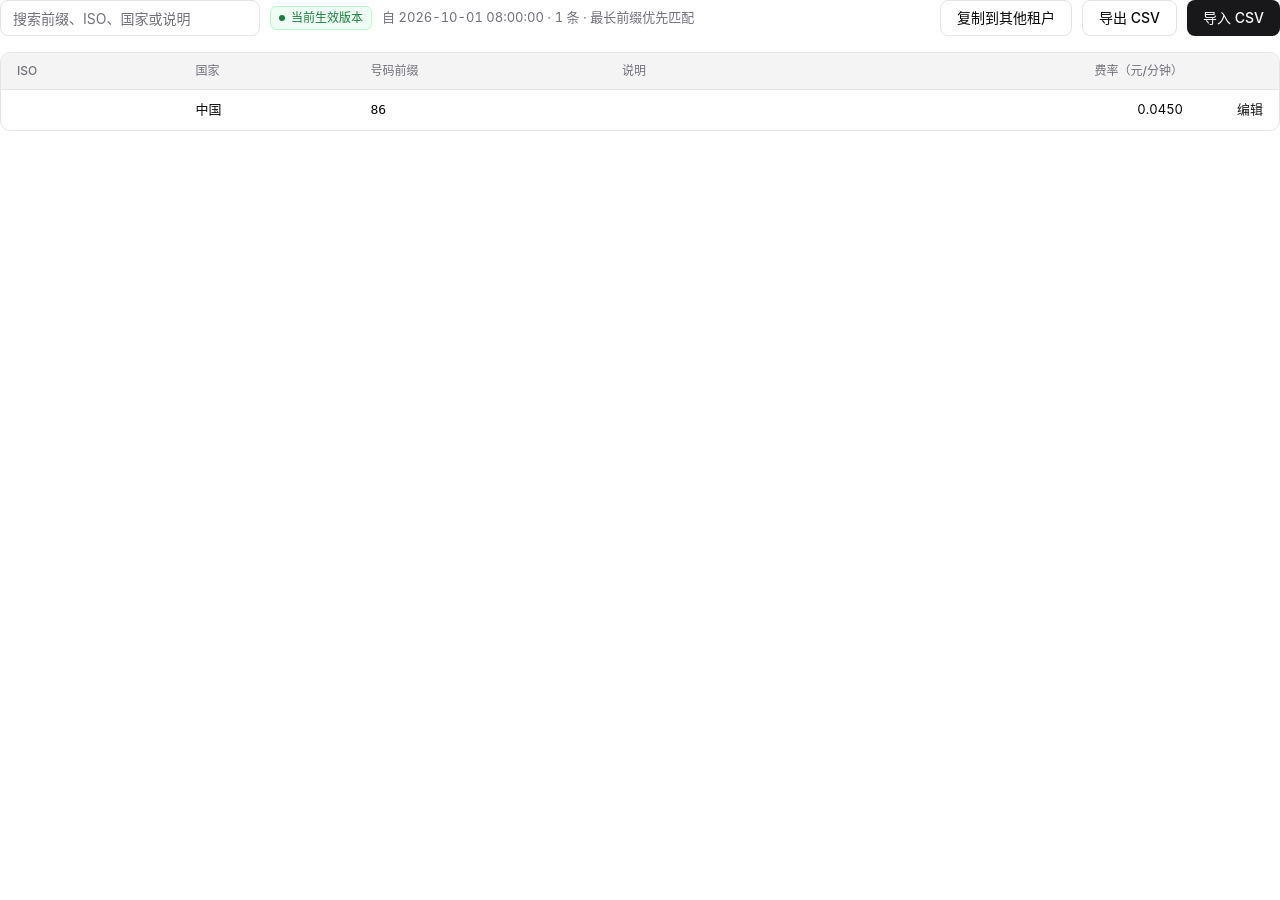
Scenario: rates tab edit dialog › a refetch while confirming keeps the base version the edit started from, and the 409 offers a refresh
Click the button with aria-label "编辑 86 中国" at (1250, 110), box [1237, 100, 1263, 120]
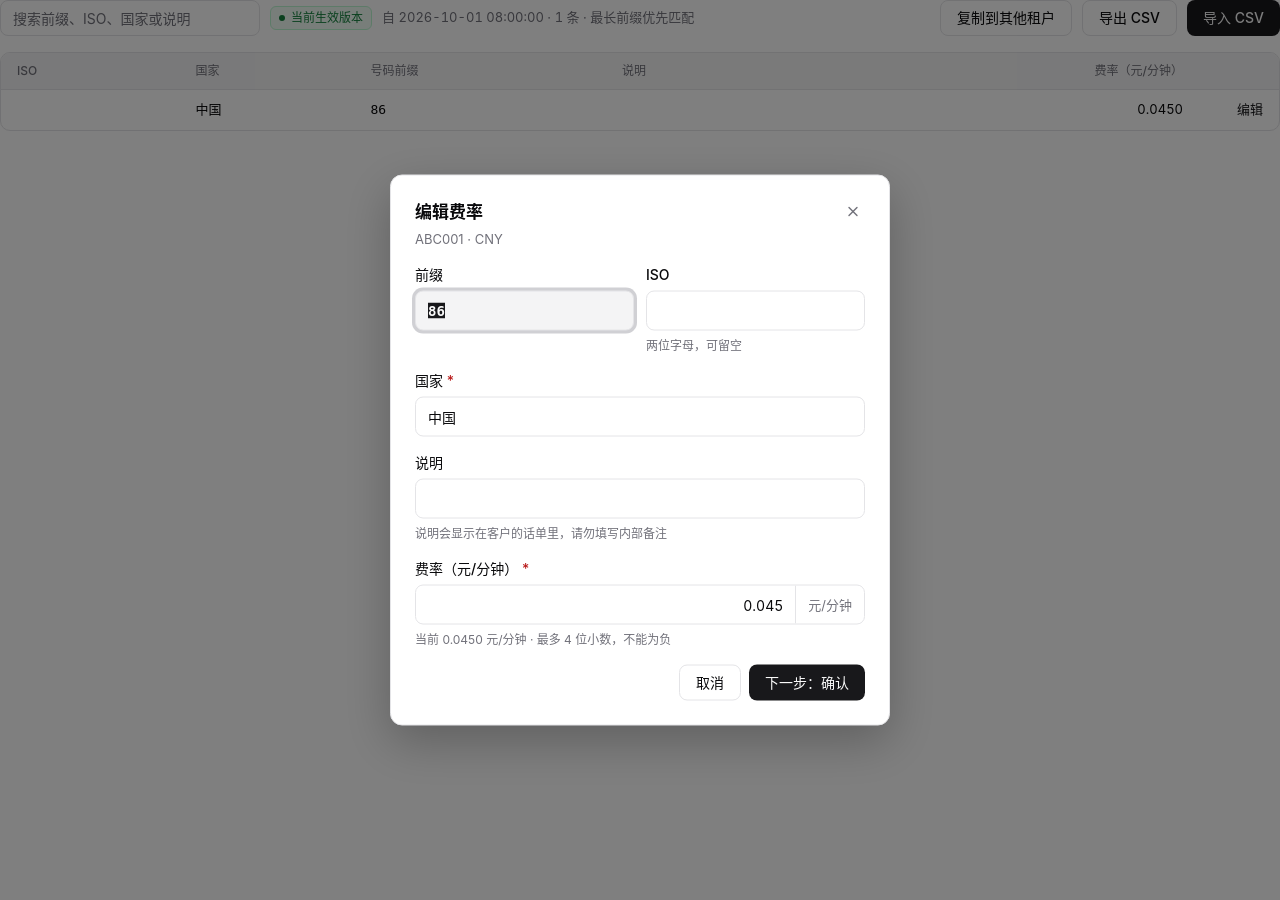
Replace the text in the field labelled "国家 *" with "中国大陆" at (640, 416), box [415, 396, 865, 436]
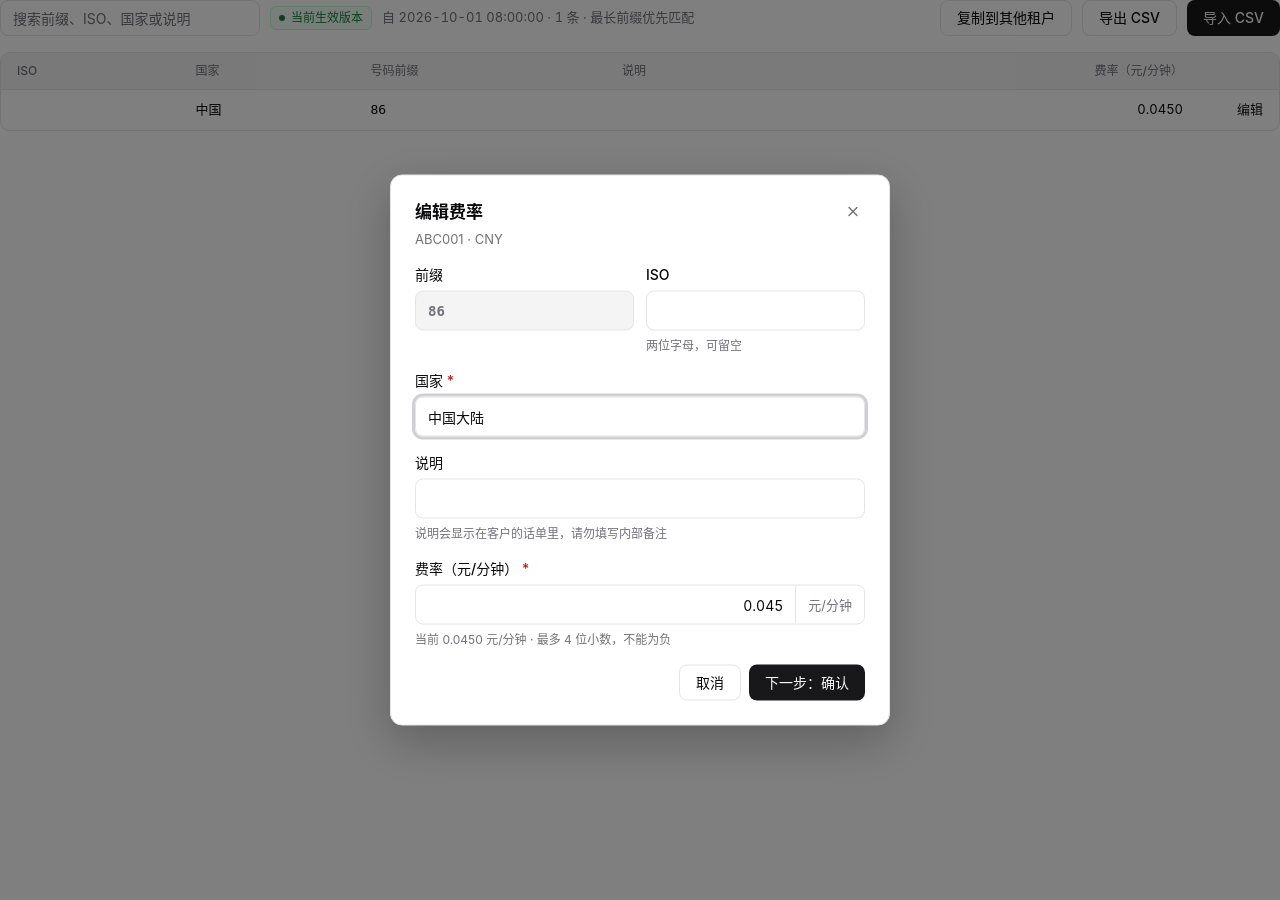
Click the button "下一步：确认" at (807, 682), box [749, 664, 865, 700]
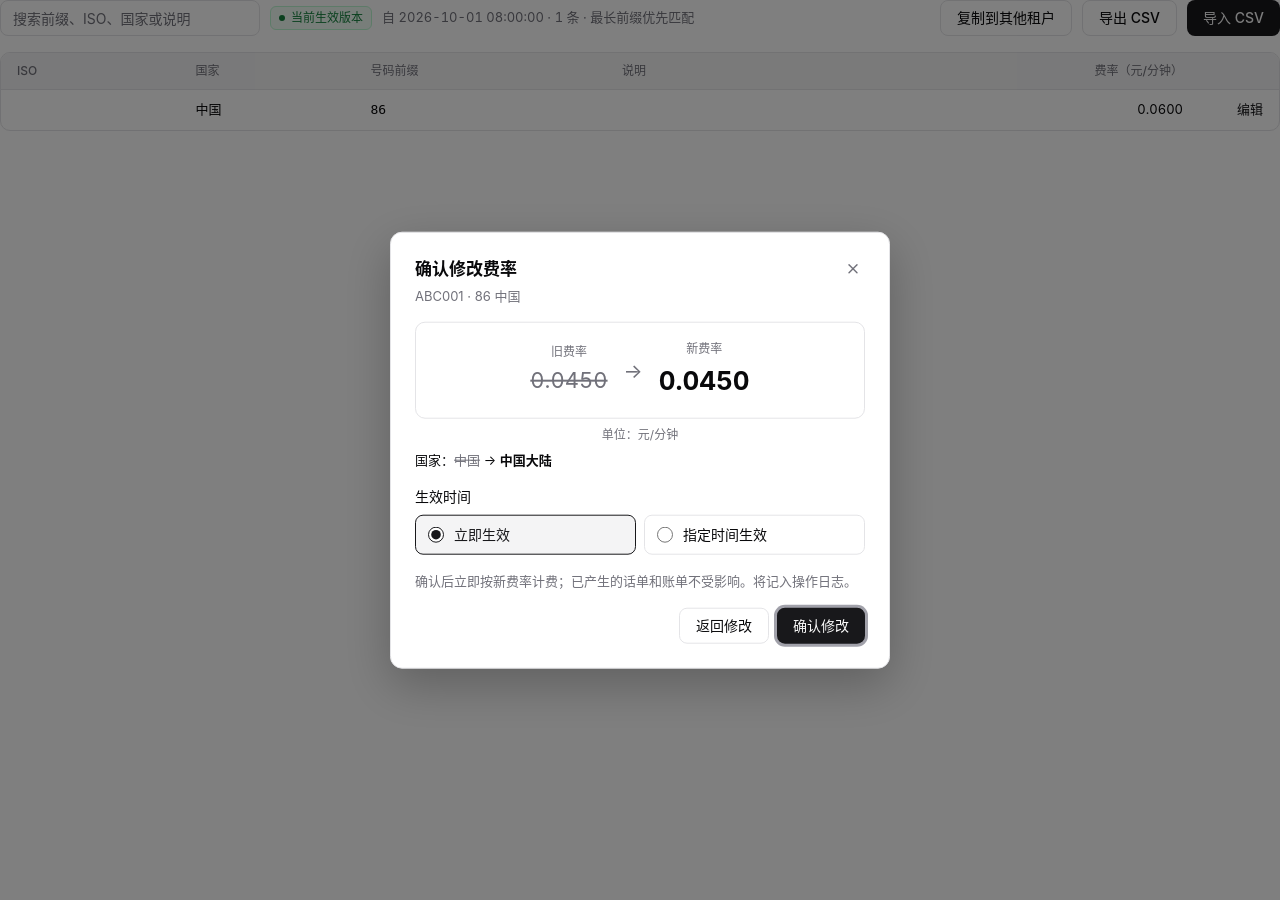
Expected: the dialog "确认修改费率" shows "0.0450", [530, 367, 608, 393]
Click the button "确认修改" at (821, 625), box [777, 607, 865, 643]
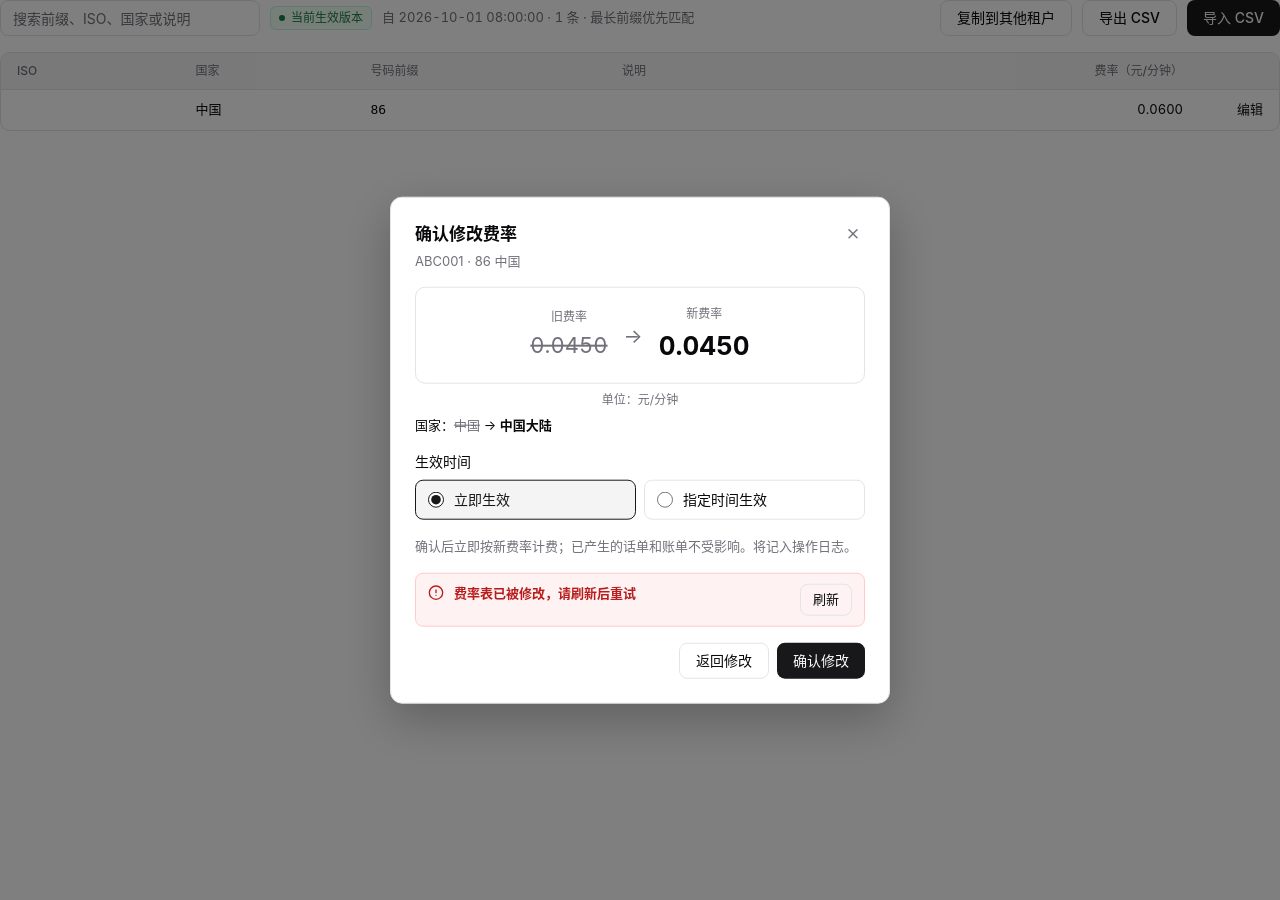
Expected: the message shows "费率表已被修改，请刷新后重试", [454, 584, 636, 600]
Click the button "刷新" at (826, 599), box [800, 583, 852, 615]
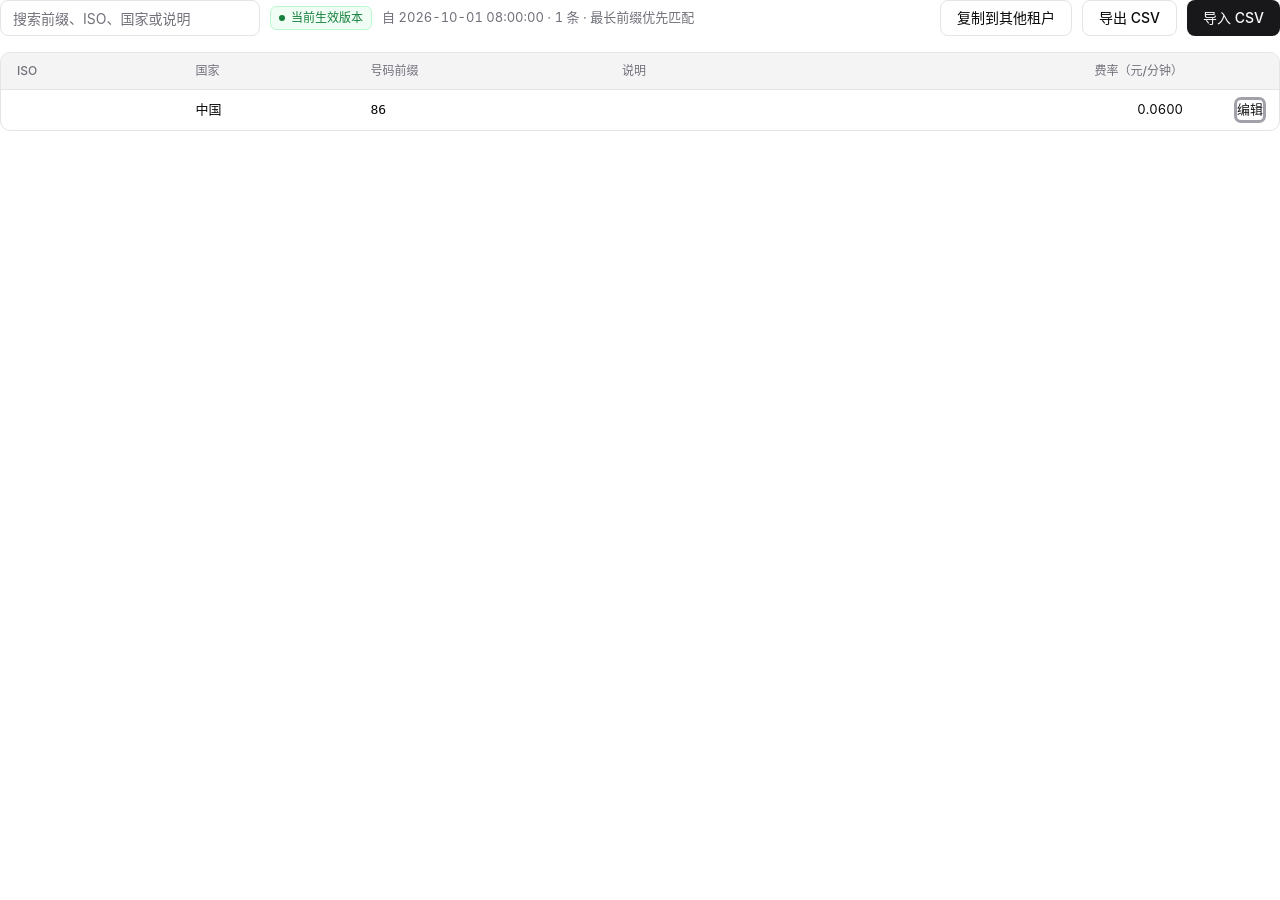
Expected: the text "0.0600" is shown, [1137, 101, 1183, 117]
Expected: the dialog is gone
